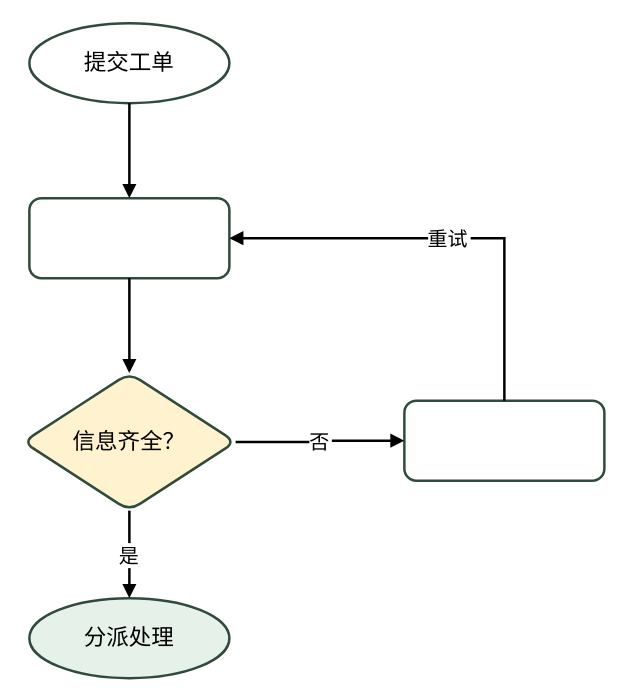
Some shapes in this 626 by 700 pixel diagram are drawn without their labels. Each missing label, with the centre of its shape:
"检查信息" belongs at (x=129, y=237).
"补充信息" belongs at (x=503, y=440).
